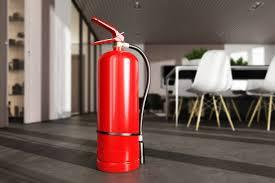floor-kept: (72, 10, 166, 179)
